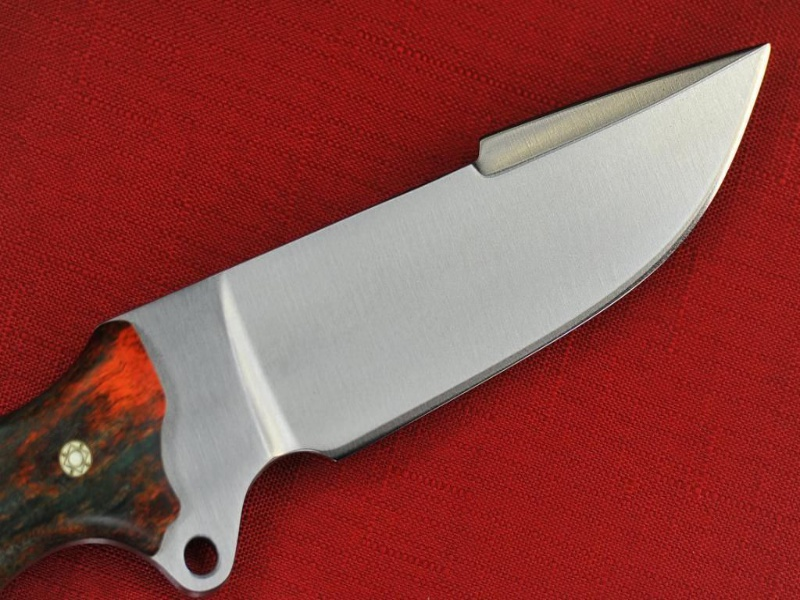knife: (63, 36, 776, 600)
